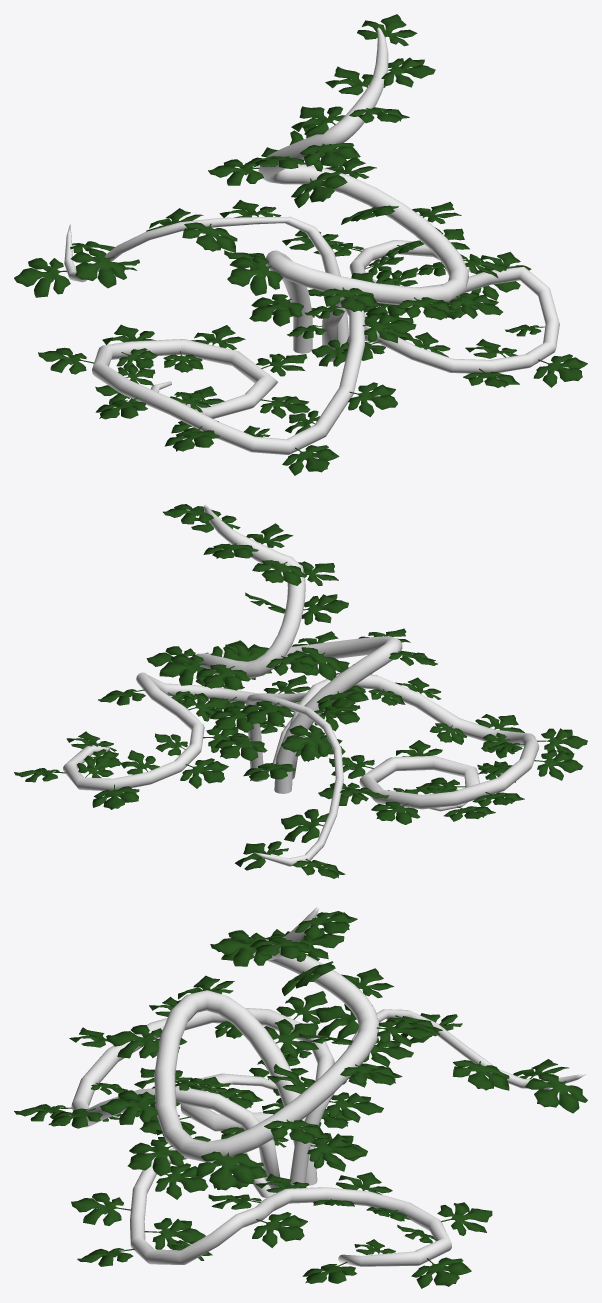
File: Planta Sandia Grande.fbx
3 views of the same model, one above another, from view 1: azimuth 30°, elevation 25°; view 2: azimuth 150°, elevation 25°; view 3: azimuth 270°, elevation 25° (orthographic). The views are drawn at different scales.
Visible parts, largest first — view 1: Planta Sandia Grande; view 2: Planta Sandia Grande; view 3: Planta Sandia Grande.
Boxes of the visible parts, left/top/right/bottom form: Planta Sandia Grande: left=14, top=14, right=587, bottom=475; Planta Sandia Grande: left=14, top=504, right=587, bottom=878; Planta Sandia Grande: left=14, top=907, right=587, bottom=1288.
Size of the model in its own units: 2813 by 2671 by 1623.
